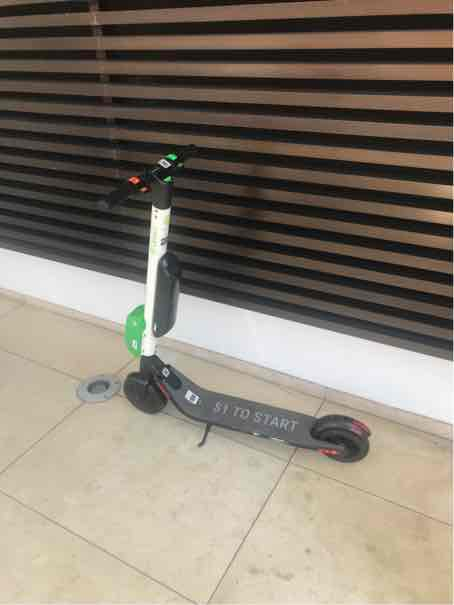scooter: (90, 131, 381, 469)
